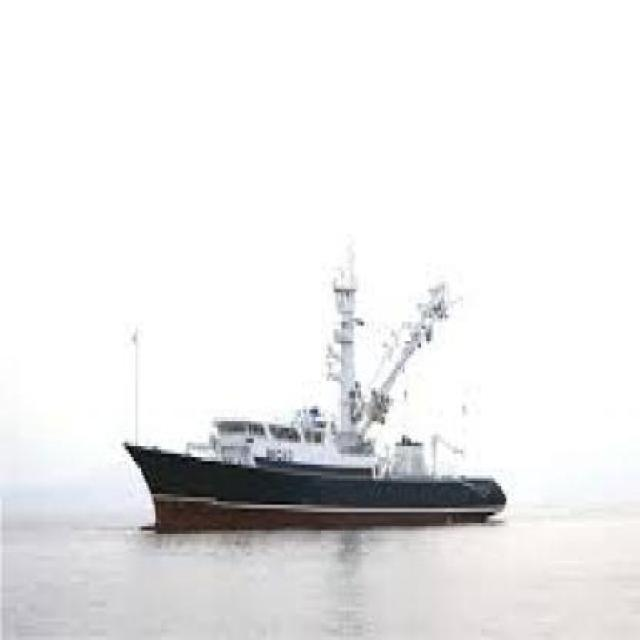fish-b: (119, 253, 528, 557)
